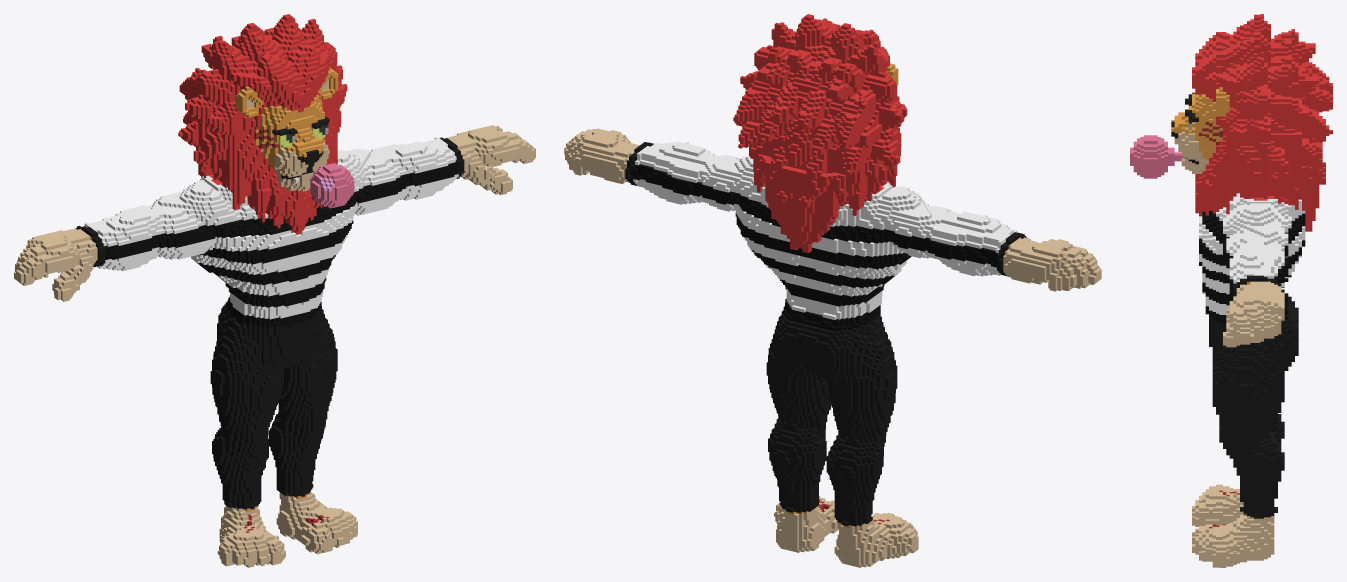
Rendered from 1009-DMMS0p-W.fbx.
3 views of the same model, side by side, from view 1: azimuth 30°, elevation 25°; view 2: azimuth 150°, elevation 25°; view 3: azimuth 270°, elevation 25° (orthographic). The views are drawn at different scales.
Visible parts, largest first — view 1: bubble_gum; view 2: bubble_gum; view 3: bubble_gum.
Part boxes in pixels (bbox=[...]): bubble_gum: bbox=[14, 14, 535, 567]; bubble_gum: bbox=[564, 14, 1101, 567]; bubble_gum: bbox=[1130, 14, 1332, 567].
Bounding box in the file's own units: 17.2 × 16.5 × 5.9.
5 materials, 5 textured.
